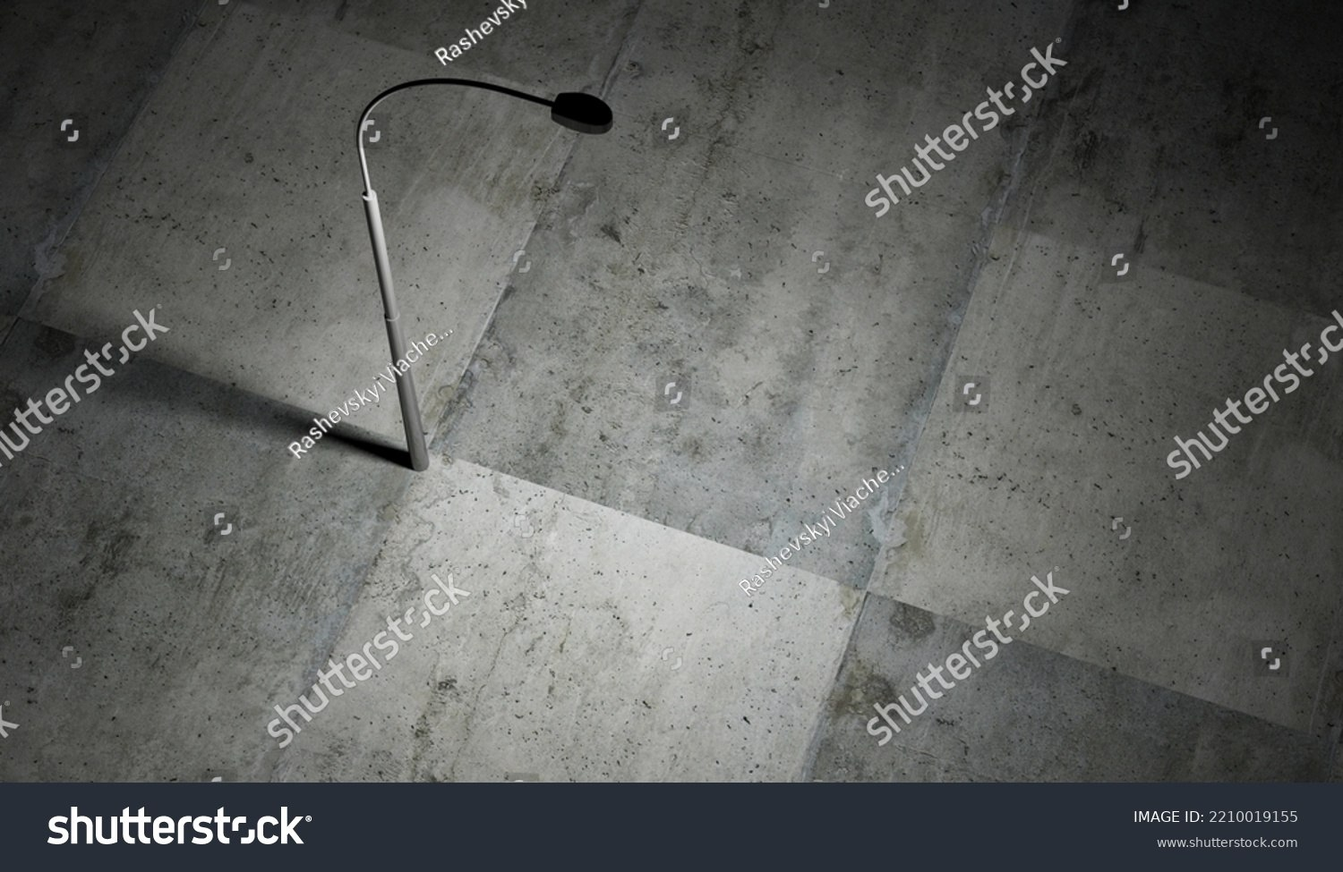Top_Street_Light: (556, 78, 618, 141)
